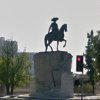Statue: (32, 12, 78, 59)
